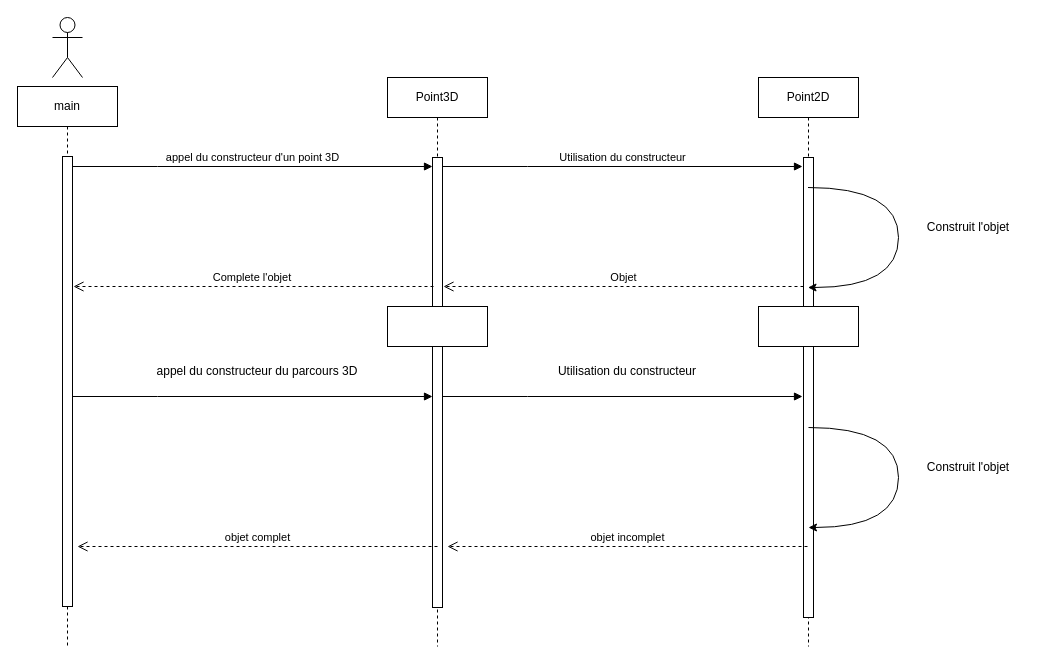
The diagram is 1056 pixels wide and 664 high, and some of its shapes have lost their labels. The shapes that lost their labels are listed below. From the top down, each one's centre as x and y in pixels, then its label:
point 437,326: Parcours3D
point 808,326: Parcours2D
